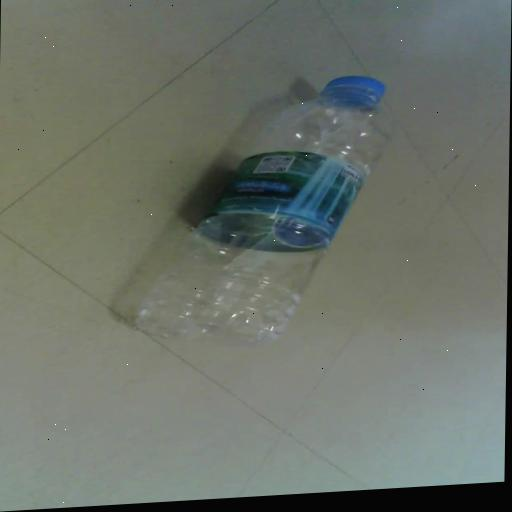bottle: (113, 44, 404, 382)
